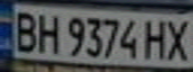3: (81, 14, 106, 58)
4: (118, 16, 142, 60)
7: (100, 15, 121, 60)
9: (60, 12, 84, 57)
B: (9, 8, 42, 53)
H: (139, 16, 172, 61), (33, 10, 63, 54)
X: (163, 16, 193, 62)
